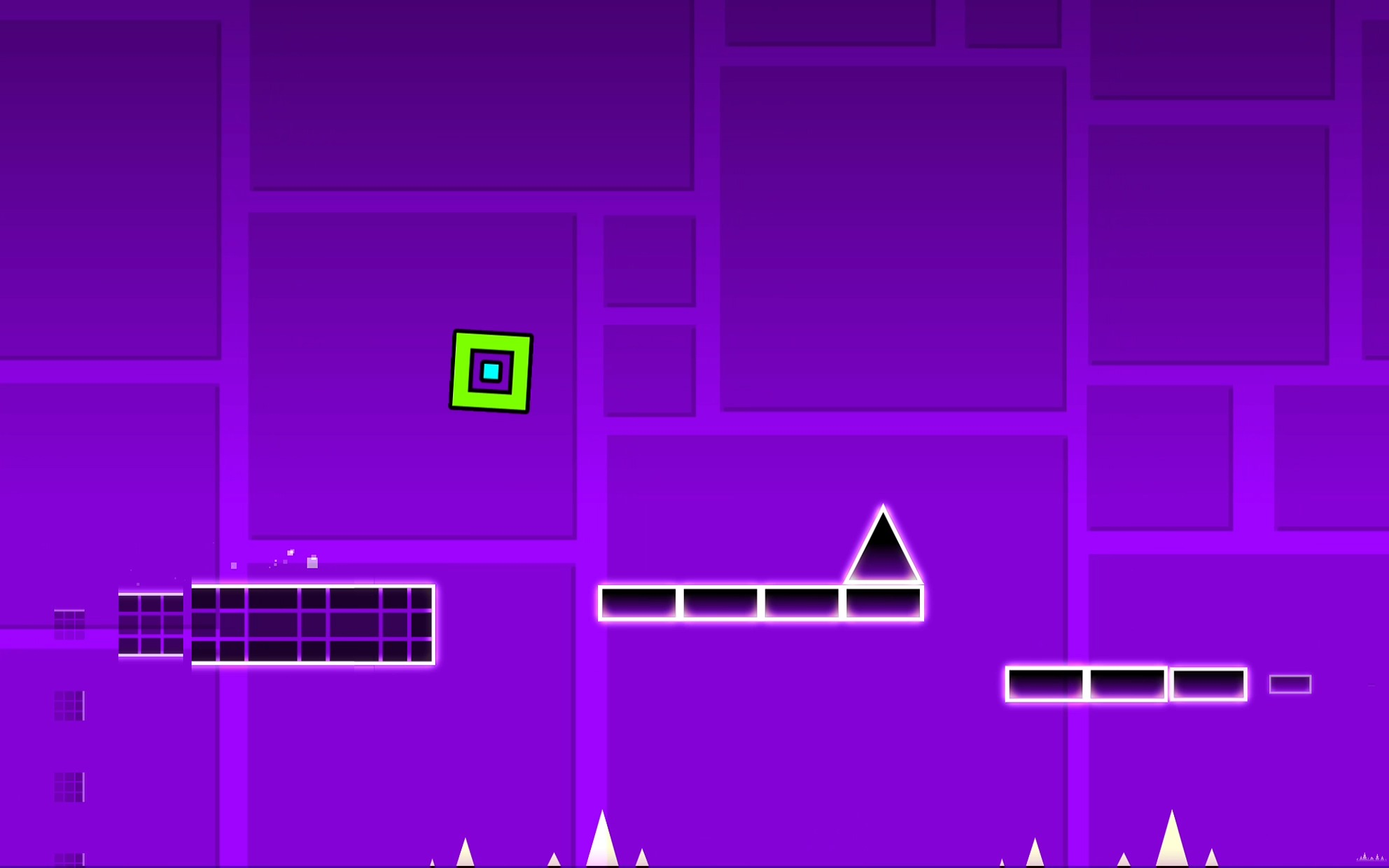Block2: (118, 584, 440, 660)
Block3: (593, 588, 762, 621), (601, 585, 686, 619), (1166, 667, 1246, 701), (1090, 667, 1164, 701), (846, 586, 922, 619), (1008, 667, 1080, 701), (767, 589, 838, 617), (1271, 674, 1316, 693)
Player: (453, 334, 534, 415)
Spike: (845, 505, 920, 580)
